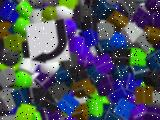Right: (26, 18, 70, 66)
